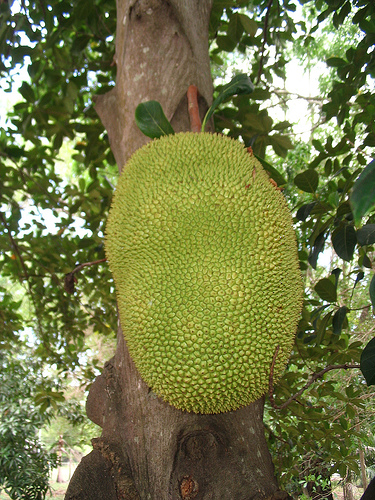jackfruit: (102, 133, 301, 413)
